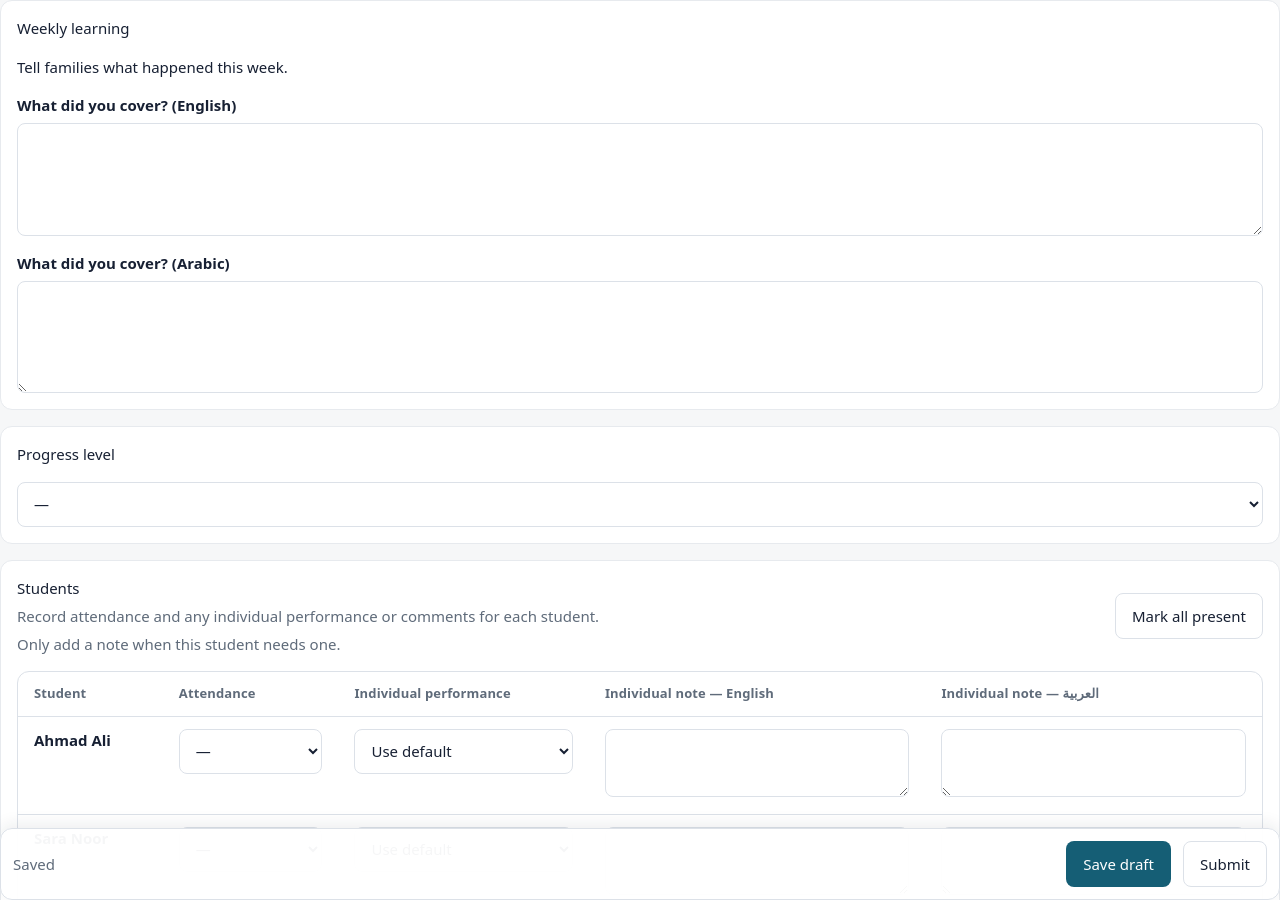
it: weekly update form › marks the whole roster present with one action
Click the button "Mark all present" at [1189, 616], box [1115,593,1263,639]
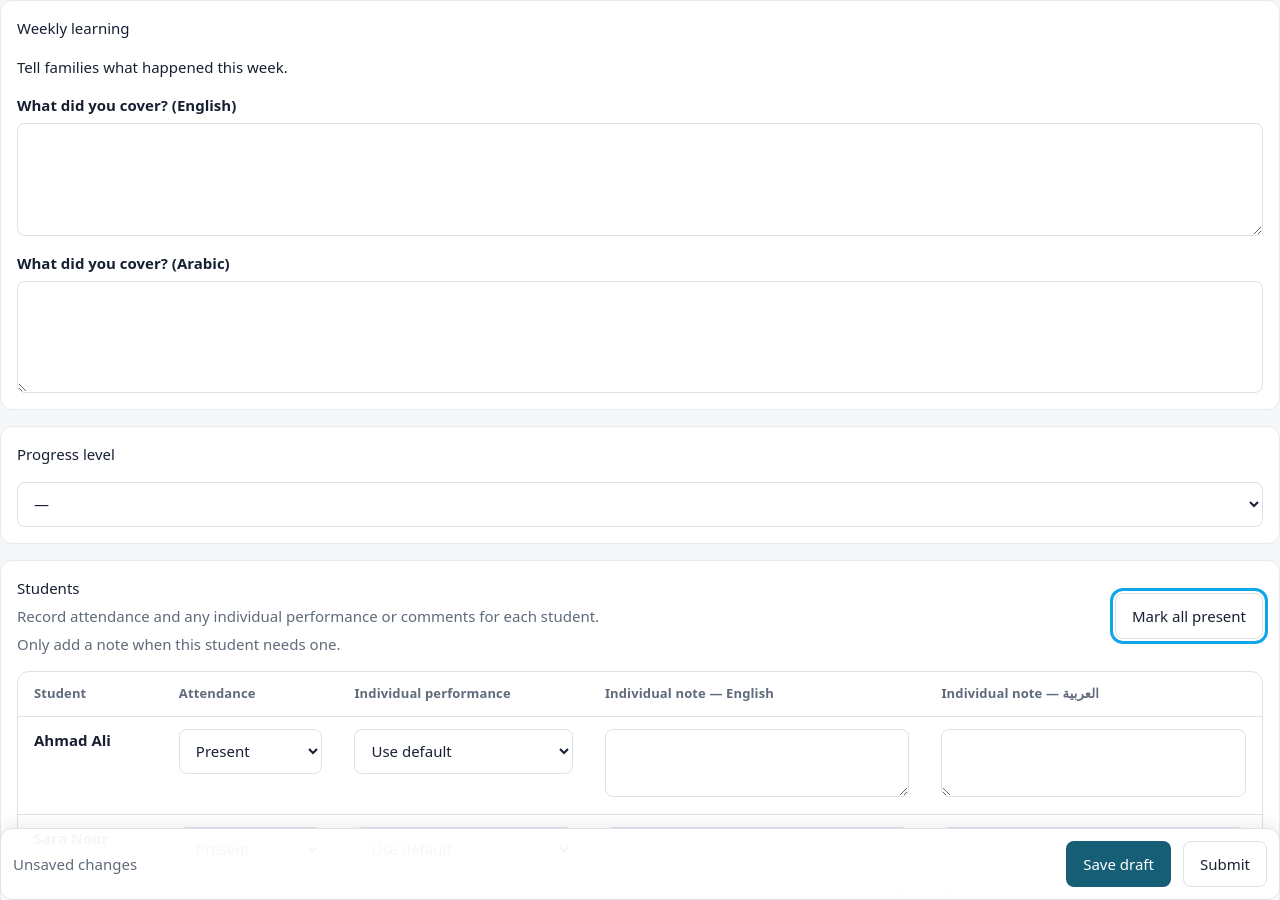
Expected: the dropdown named "Attendance — Sara Noor" shows "Present", [179,827,322,872]
Expected: the dropdown named "Attendance — Ahmad Ali" shows "Present", [179,729,322,774]
